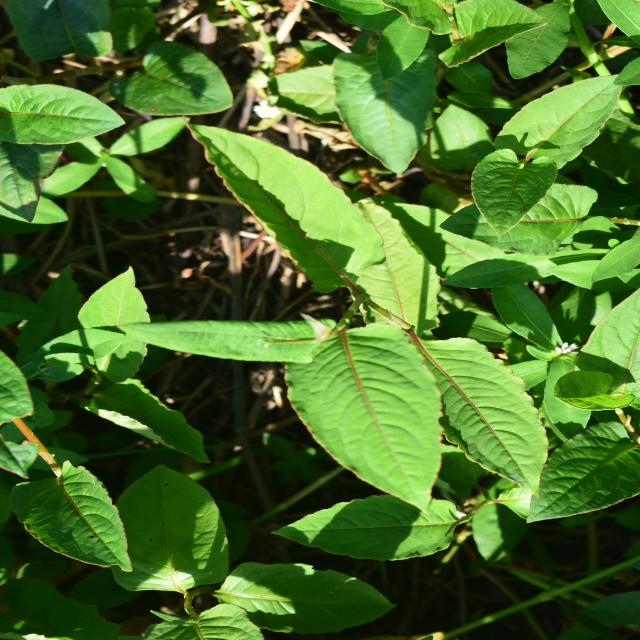Chinese_knotweed: (155, 185, 484, 494)
